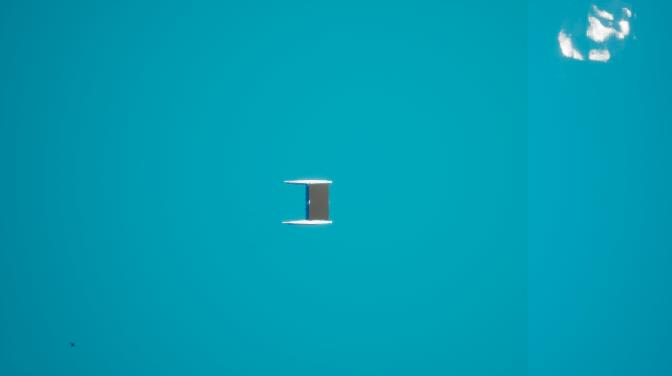boat: (280, 177, 336, 230)
drone: (68, 339, 77, 350)
land_base: (308, 184, 328, 219)
light_reflex: (545, 1, 645, 71)
